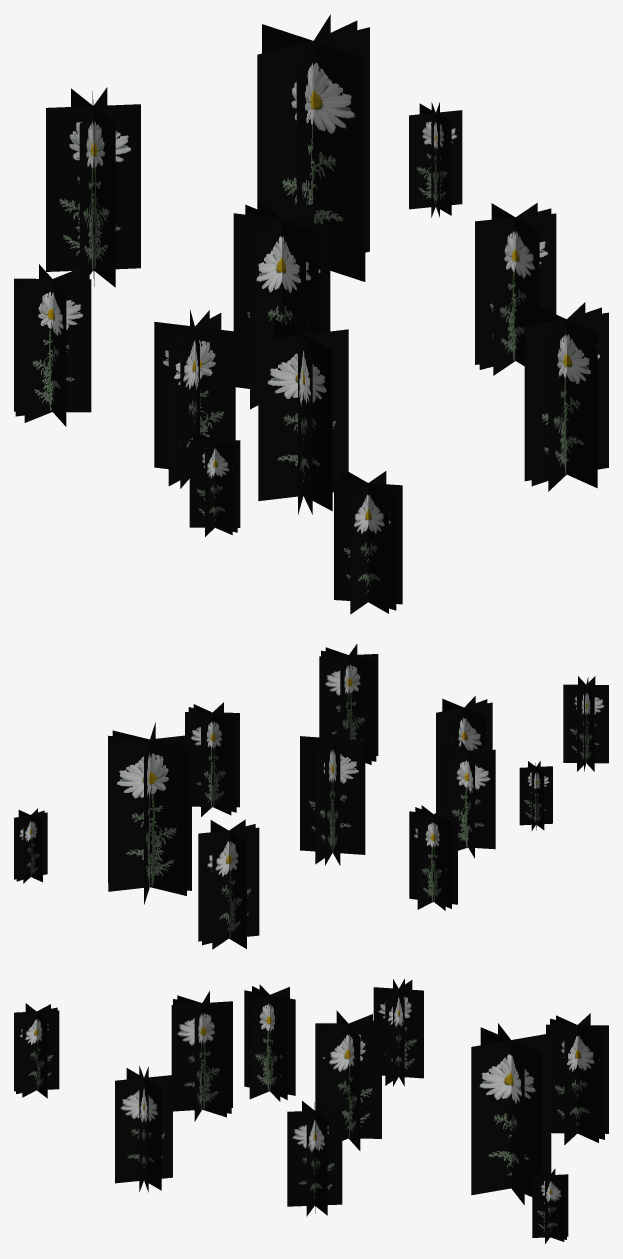
File: house.gltf
3 renders of one model, top to bottom at view 1: azimuth 30°, elevation 25°; view 2: azimuth 150°, elevation 25°; view 3: azimuth 270°, elevation 25°, orthographic. The views are drawn at different scales.
Parts seen in each view (by area): view 1: flower.003; view 2: flower.003; view 3: flower.003.
Boxes of the visible parts, left/top/right/bottom form: flower.003: left=14, top=14, right=608, bottom=614; flower.003: left=14, top=644, right=608, bottom=949; flower.003: left=14, top=978, right=608, bottom=1243.
Size of the model in its own units: 2.58 by 1 by 3.63.
Materials: 1 (1 with a texture image).
